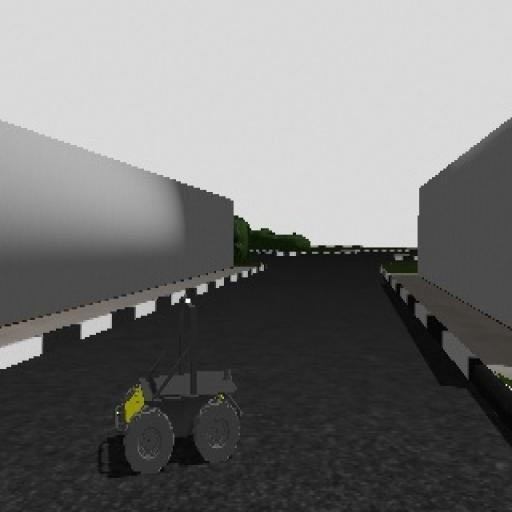huskya200: (102, 294, 246, 468)
